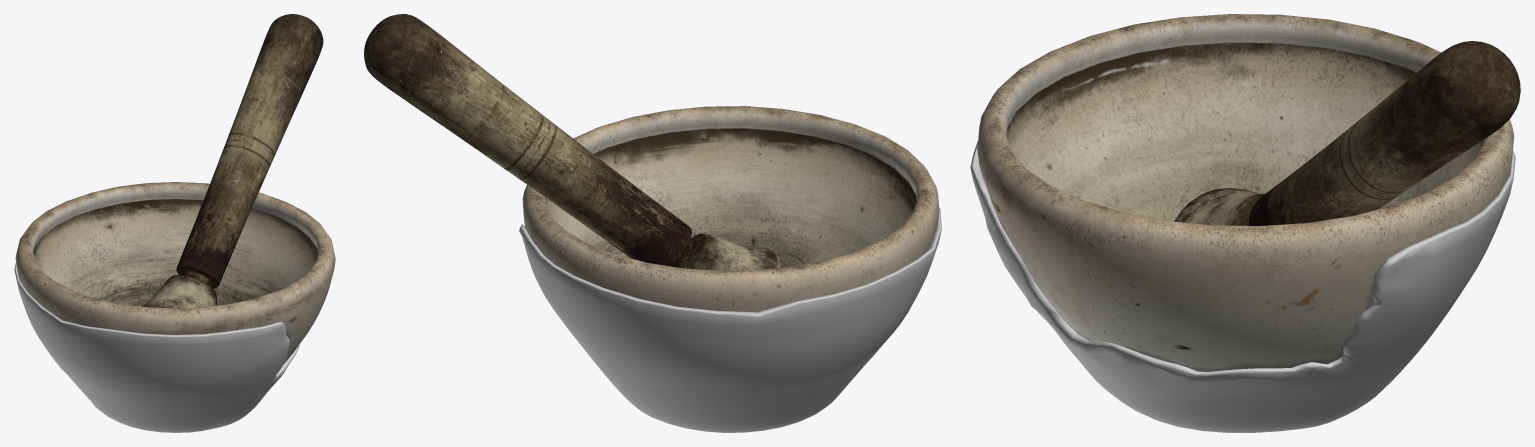
Rendered from Grindingbasin.gltf.
3 renders of one model, left to right at view 1: azimuth 30°, elevation 25°; view 2: azimuth 150°, elevation 25°; view 3: azimuth 270°, elevation 25°, orthographic. The views are drawn at different scales.
Visible parts, largest first — view 1: bowl1, skin1, geart; view 2: bowl1, skin1, geart; view 3: bowl1, skin1, geart.
Boxes of the visible parts, bbox=[...] form: bowl1: bbox=[15, 182, 335, 364]; skin1: bbox=[14, 263, 299, 432]; geart: bbox=[142, 14, 323, 308]; bowl1: bbox=[522, 106, 939, 312]; skin1: bbox=[519, 207, 941, 432]; geart: bbox=[364, 14, 781, 270]; bowl1: bbox=[977, 14, 1514, 371]; skin1: bbox=[970, 141, 1515, 432]; geart: bbox=[1174, 41, 1520, 225].
Size of the model in its own units: 52.75 by 41.91 by 42.69.
